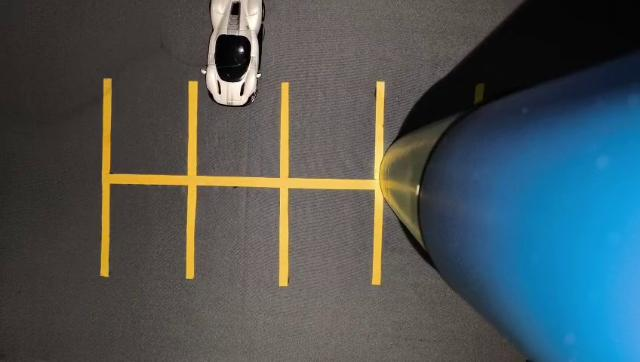toy_car: (187, 0, 313, 125)
